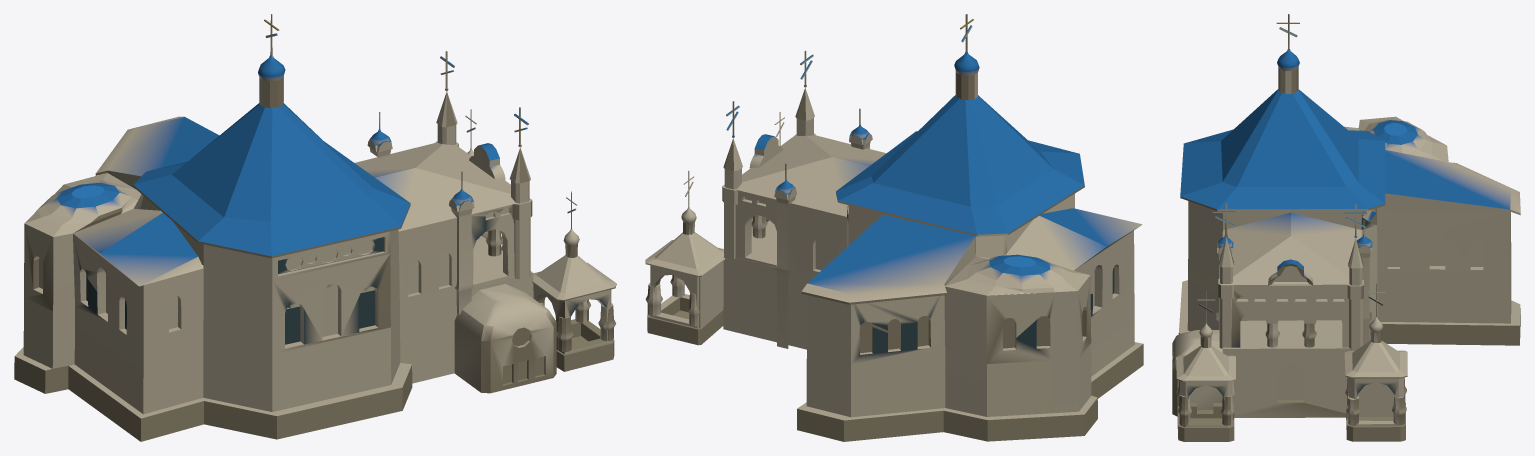
3 views of the same model, side by side, from view 1: azimuth 30°, elevation 25°; view 2: azimuth 150°, elevation 25°; view 3: azimuth 270°, elevation 25° (orthographic). The views are drawn at different scales.
Parts seen in each view (by area): view 1: pCube2:PIV; view 2: pCube2:PIV; view 3: pCube2:PIV.
Boxes of the visible parts, <box> form: pCube2:PIV: <box>14,14,616,441</box>; pCube2:PIV: <box>645,14,1143,441</box>; pCube2:PIV: <box>1172,14,1520,441</box>.
Size of the model in its own units: 49.37 by 36.2 by 36.71.
